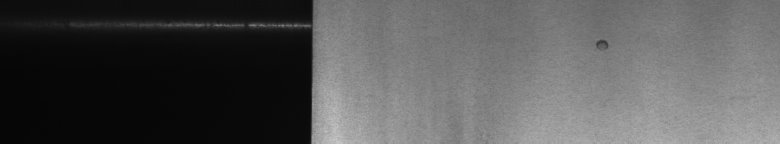fi: (593, 32, 612, 56)
